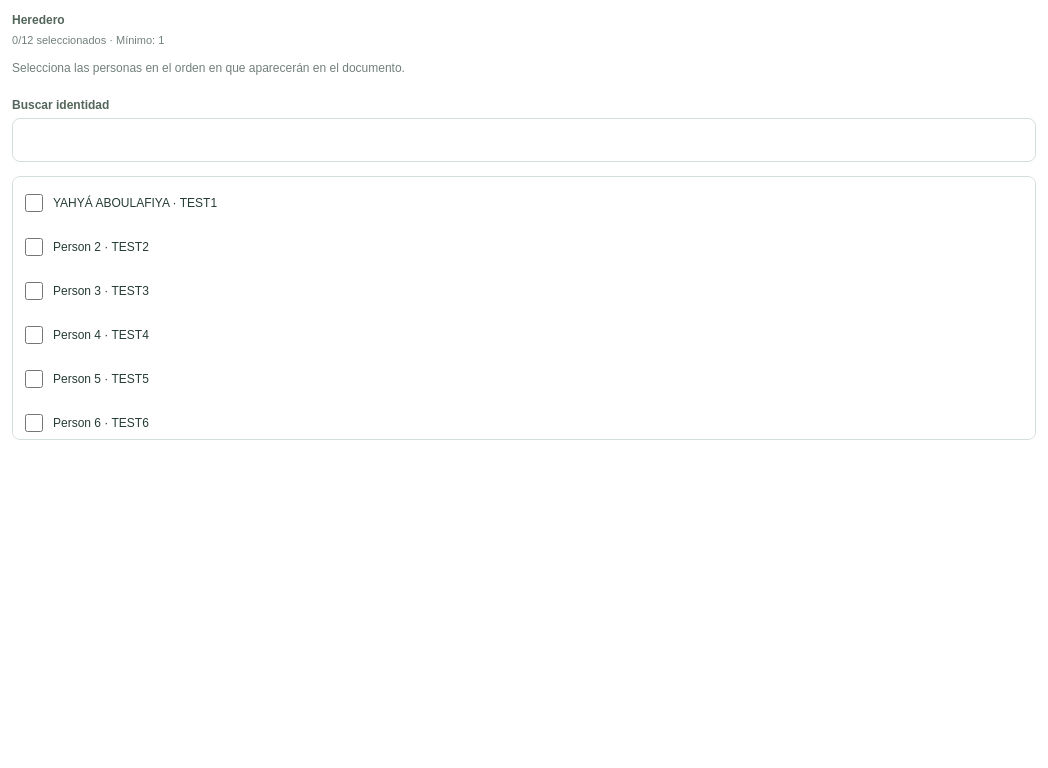
Scenario: professional role identity picker › preserves selection order instead of catalog order and removes only the chosen person
Click the checkbox labelled "Person 3 · TEST3". click: (34, 291)
box: [25,282,43,300]
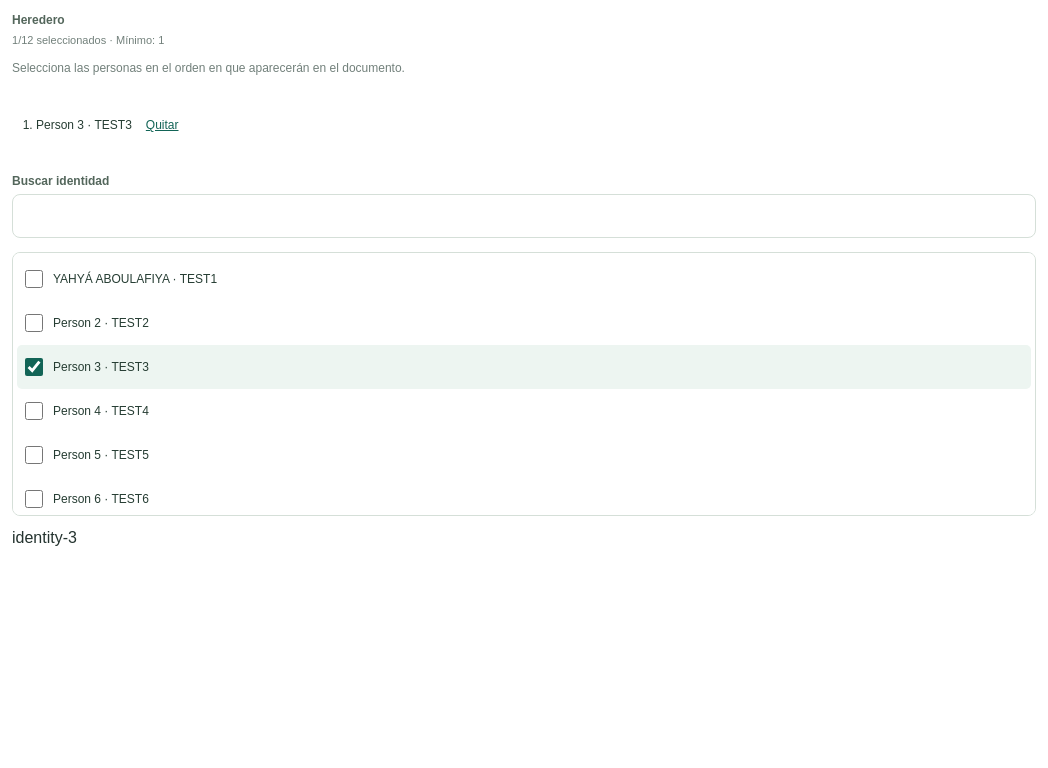
Click the checkbox labelled "YAHYÁ ABOULAFIYA · TEST1". click: (34, 279)
box: [25,270,43,288]
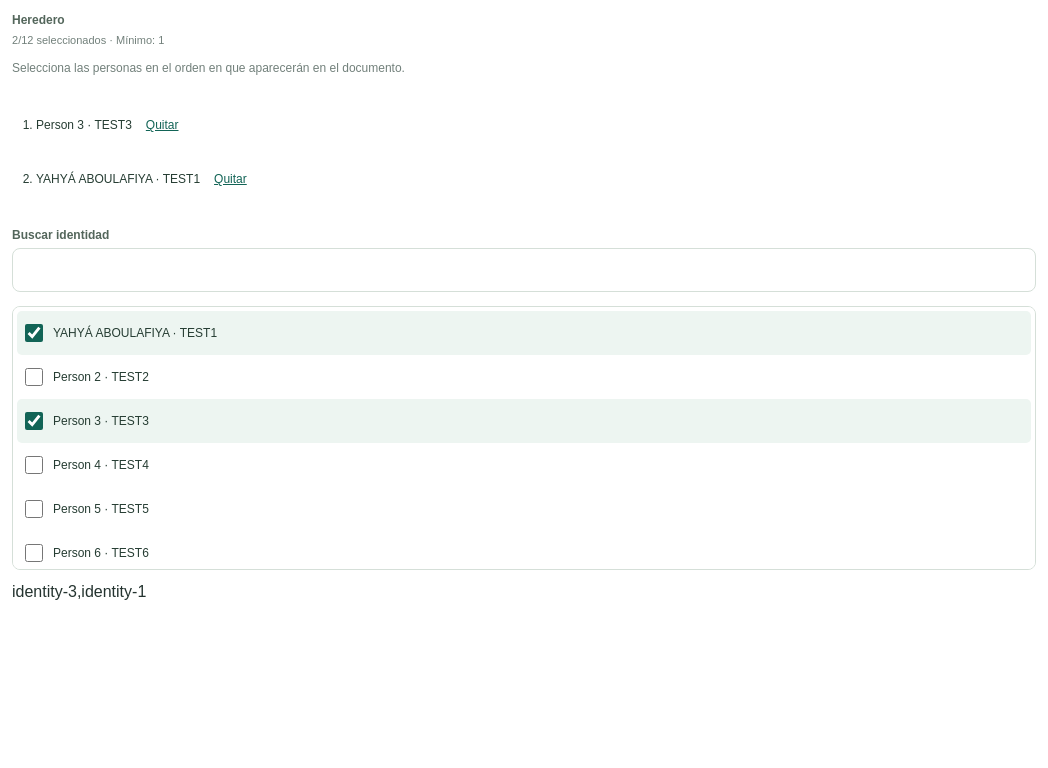
Expected: the text with test id "selection" reads "identity-3,identity-1", [12,583,146,600]
Expected: the list items read "Person 3 · TEST3Quitar", "YAHYÁ ABOULAFIYA · TEST1Quitar", in this order, [36,103,184,147]; [36,157,253,201]
Click the button with aria-label "Quitar: Person 3 · TEST3". click: (162, 125)
box: [140,103,184,147]
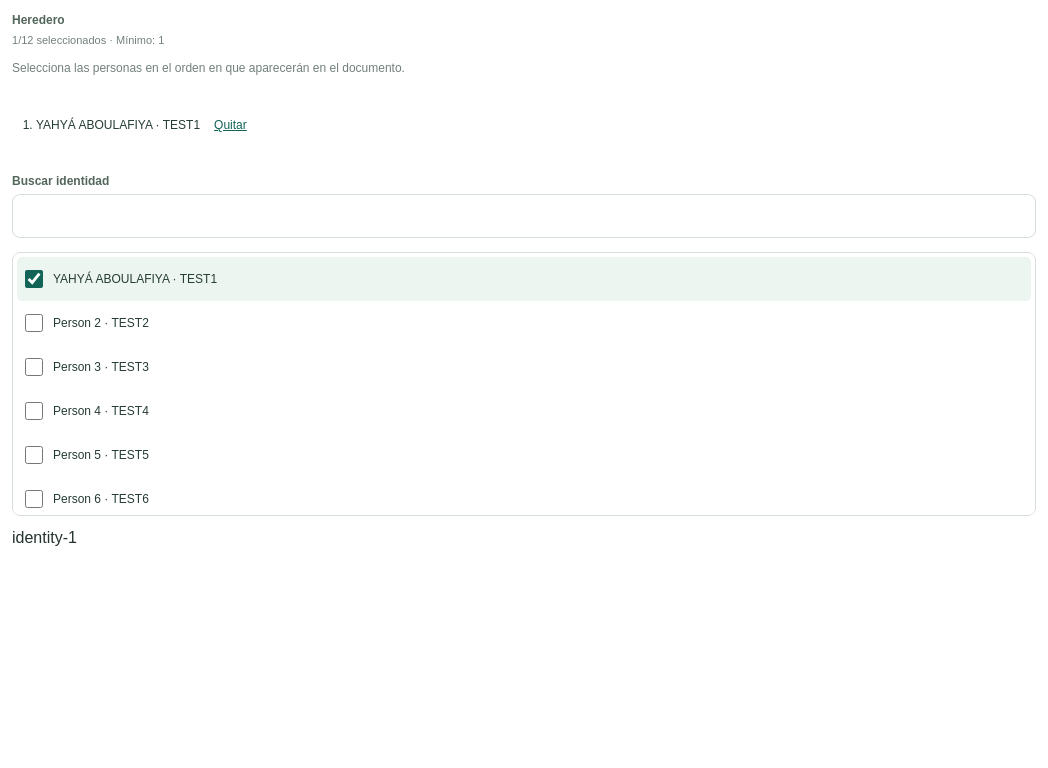
Expected: the text with test id "selection" reads "identity-1", [12,529,77,546]
